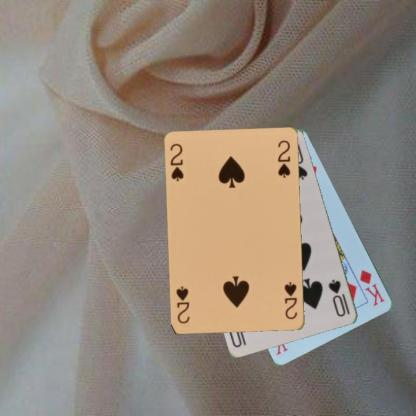10s: (326, 277, 347, 318)
2s: (168, 141, 186, 183), (282, 279, 299, 321)
Kd: (357, 267, 386, 307)
